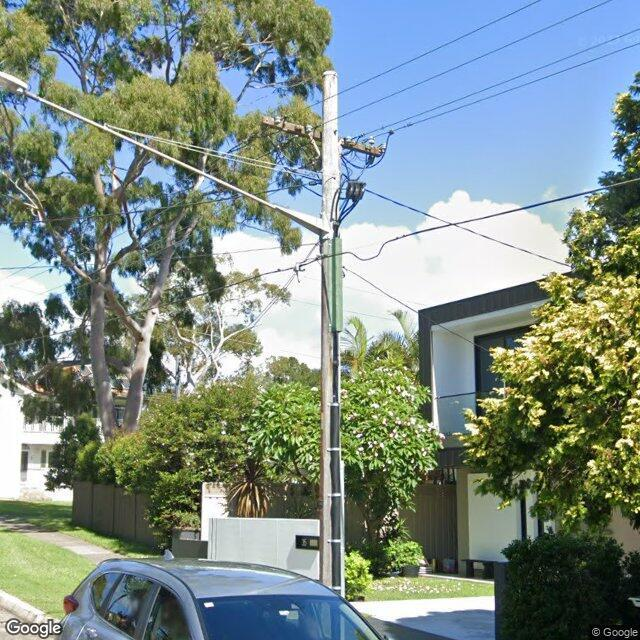crossarm: (262, 115, 384, 158)
streetlight: (0, 69, 331, 235)
timber-pole: (320, 71, 344, 598)
